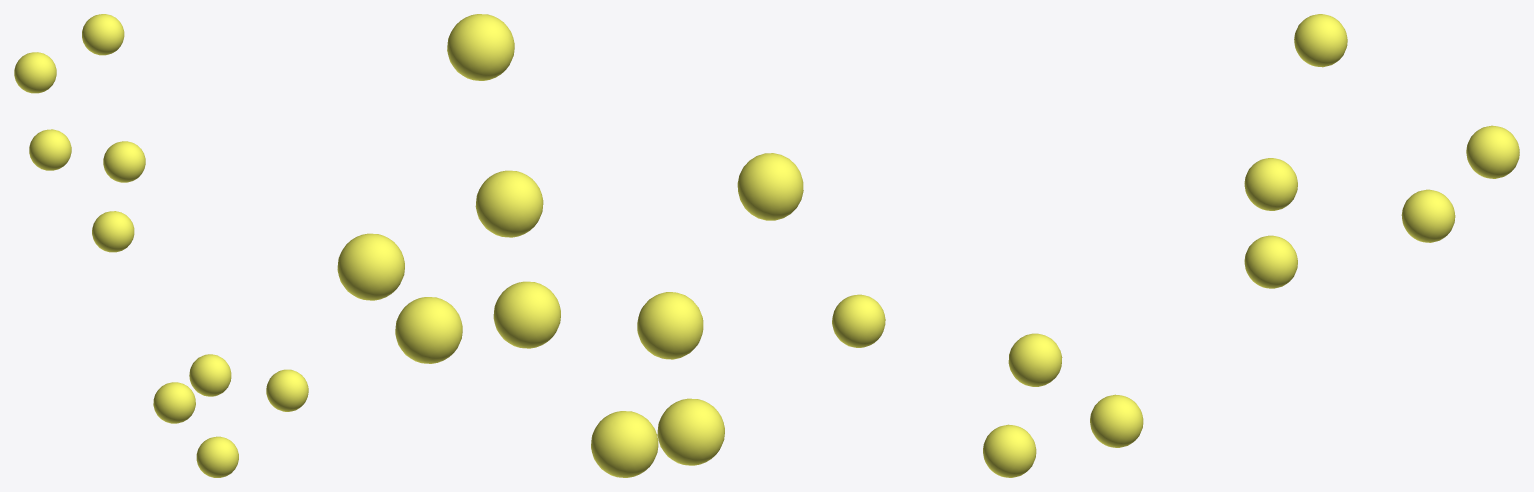
File: virgo.dae
3 renders of one model, left to right at view 1: azimuth 30°, elevation 25°; view 2: azimuth 150°, elevation 25°; view 3: azimuth 270°, elevation 25°, orthographic. The views are drawn at different scales.
Parts seen in each view (by area): view 1: 元件_2 (×9); view 2: 元件_2 (×9); view 3: 元件_2 (×9).
Part boxes in pixels (bbox=[...]): 元件_2 (×9): bbox=[14, 14, 308, 477]; 元件_2 (×9): bbox=[337, 14, 803, 477]; 元件_2 (×9): bbox=[832, 14, 1519, 477].
Size of the model in its own units: 3.58 by 34.82 by 25.94.
